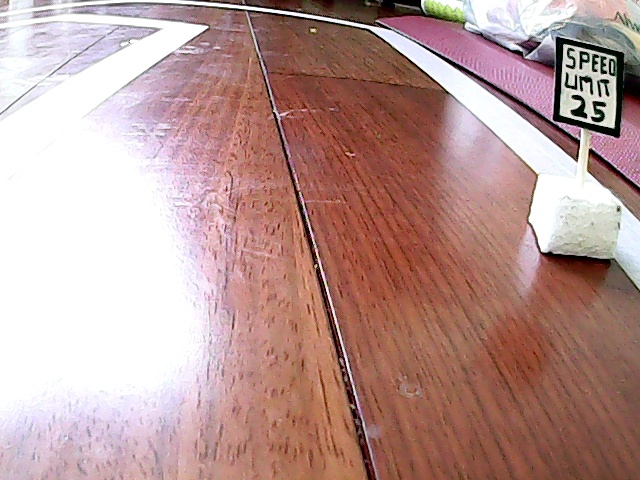speed_25: (529, 32, 629, 275)
